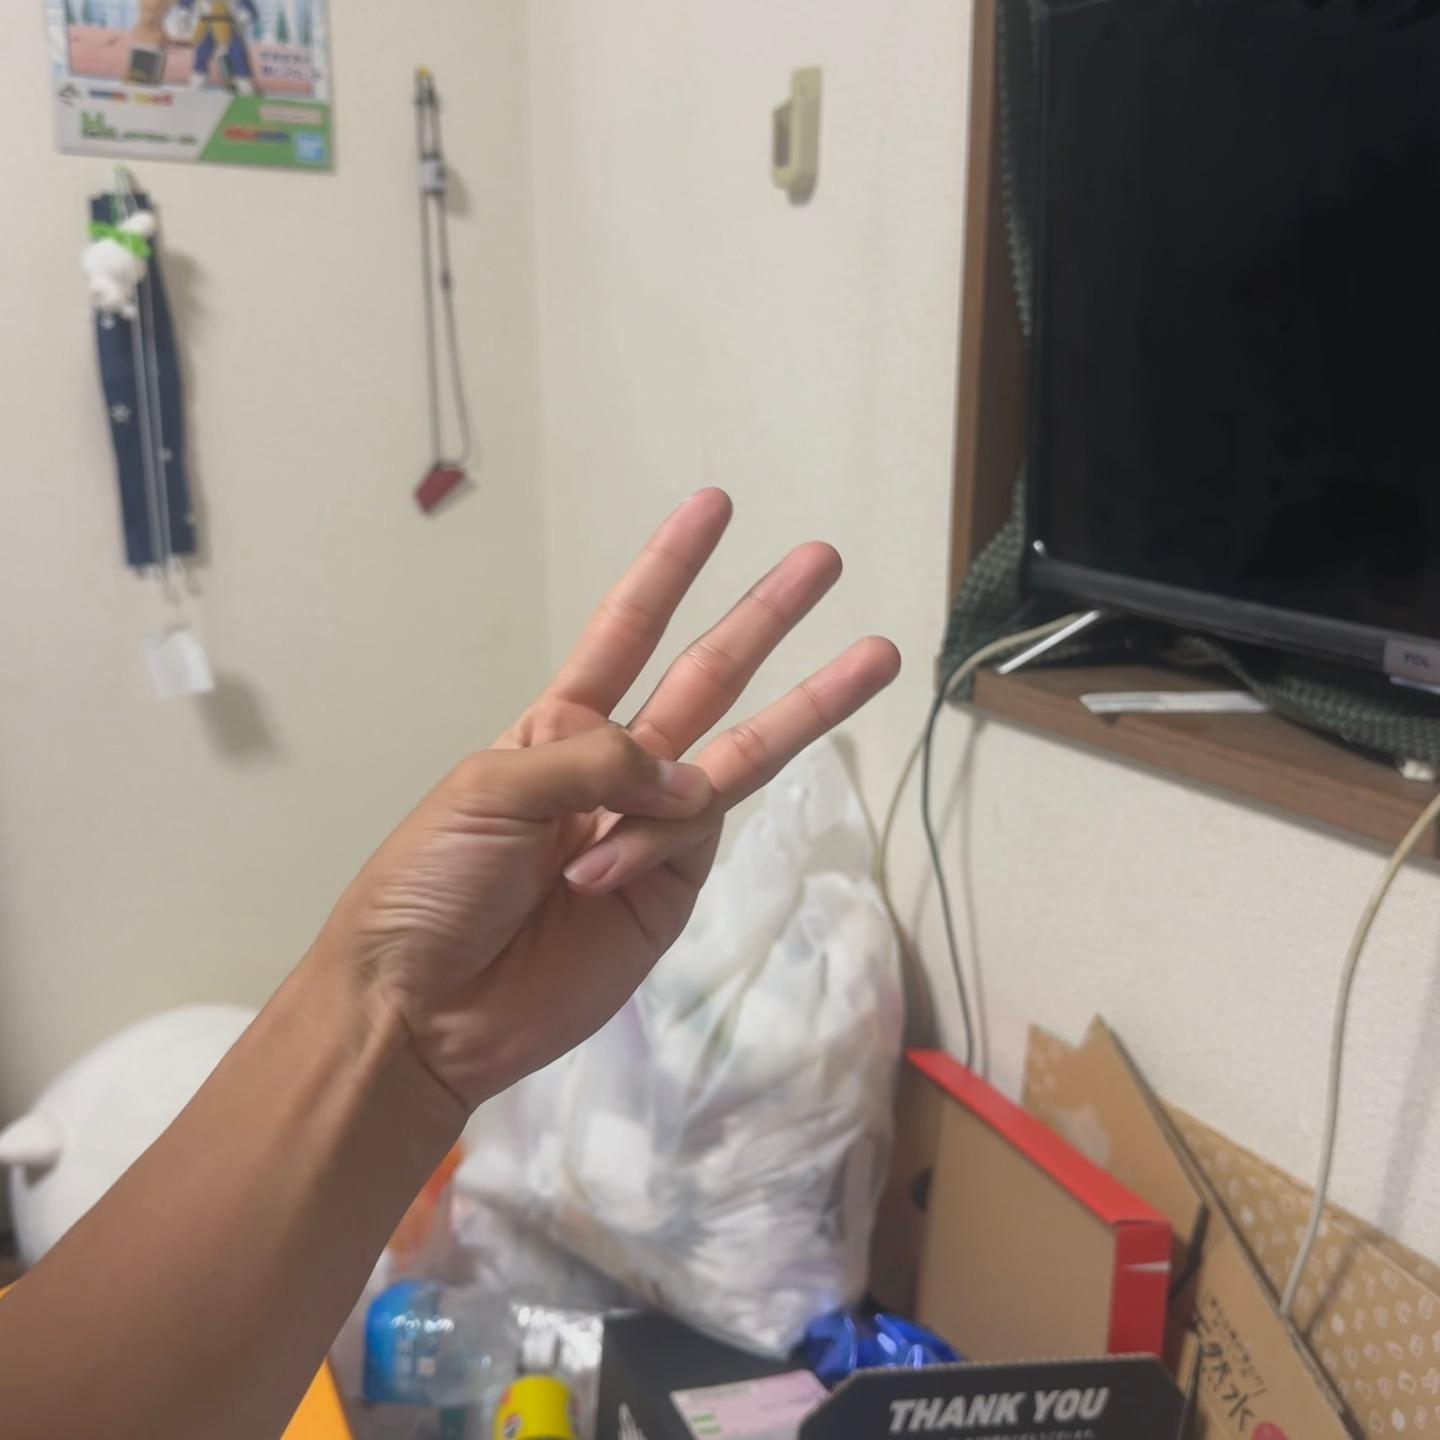without_gloves: (260, 349, 1062, 1151)
